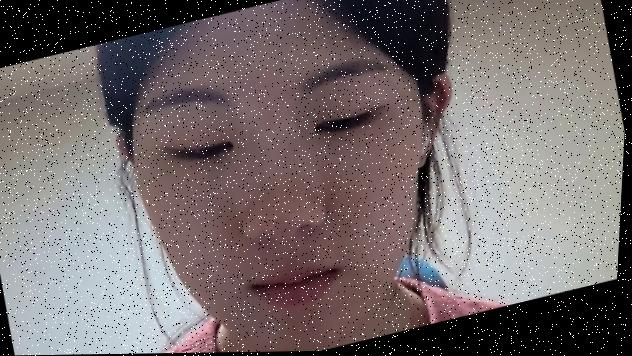eye: (331, 115, 354, 136), (203, 143, 225, 163)
iris: (311, 108, 377, 137), (175, 136, 234, 164)
